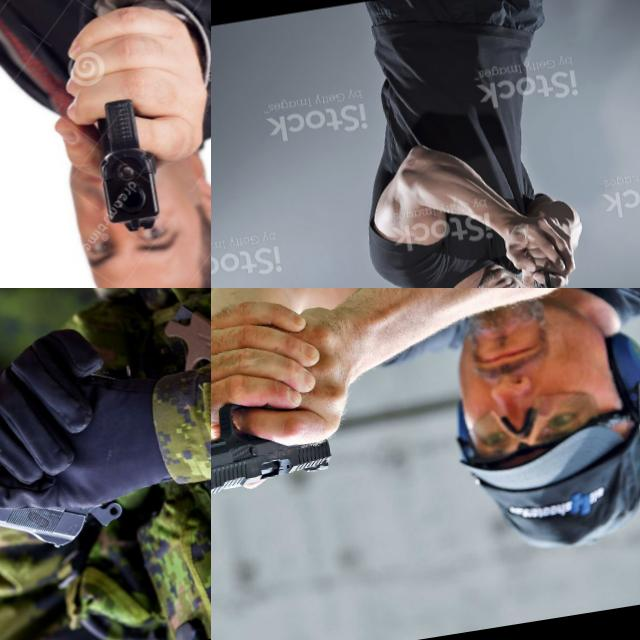handgun: (0, 395, 157, 586), (81, 73, 176, 245), (211, 384, 338, 507), (525, 263, 564, 288)
